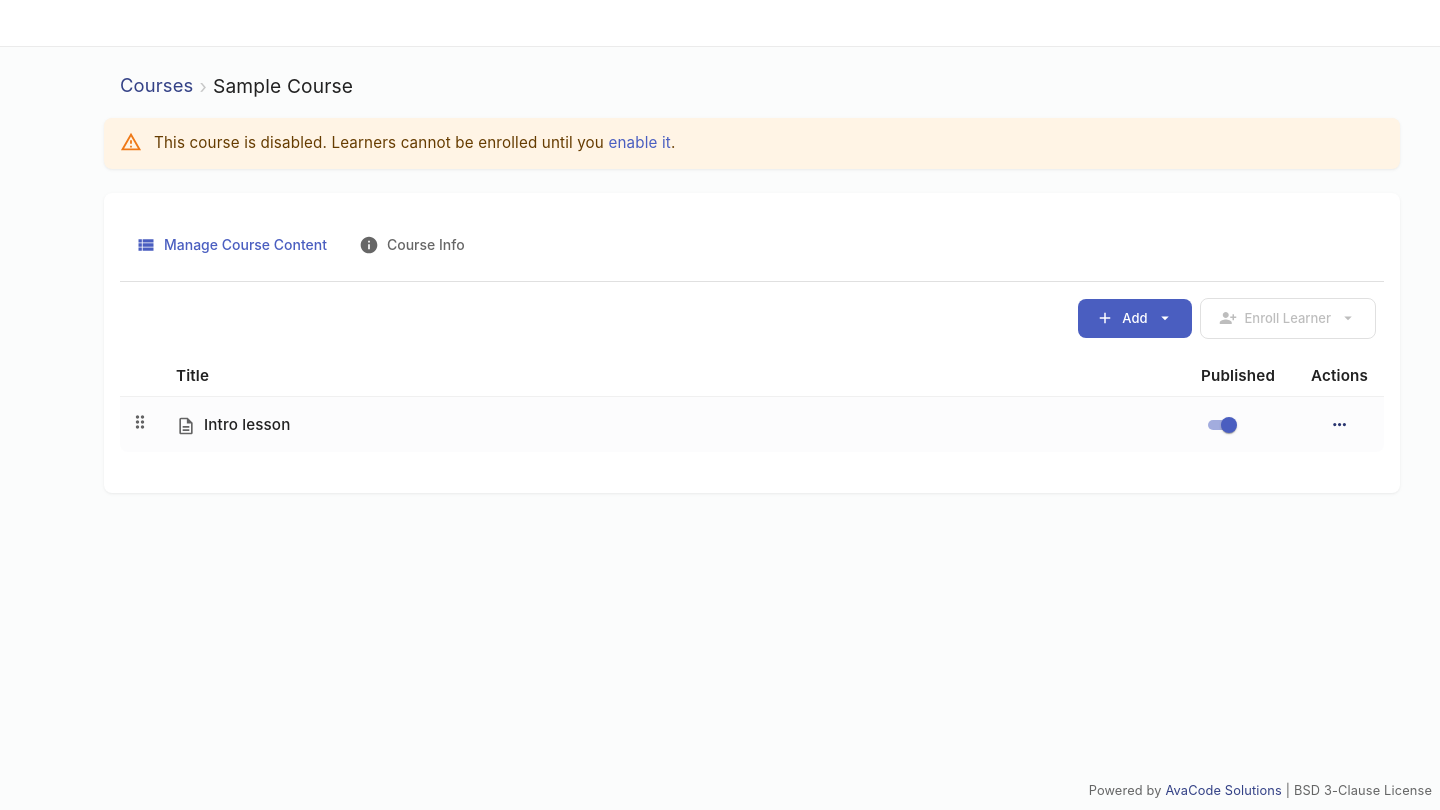
Scenario: Course › hides the disabled banner and re-enables the Enroll button after confirming enable
Click the button "enable it" at (640, 144), box [608,132,671,155]
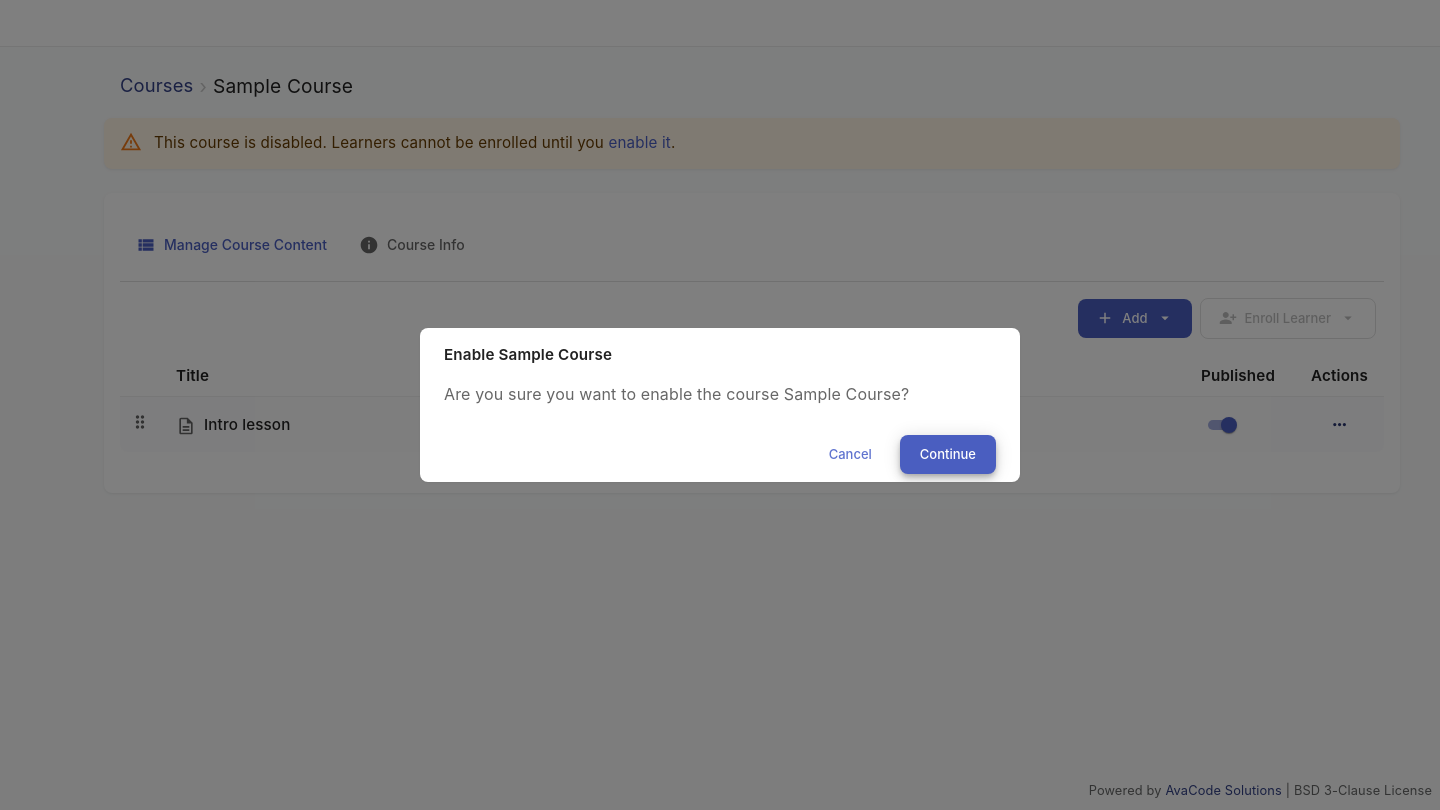
Click the button "Continue" at (948, 454), box [900,435,996,474]
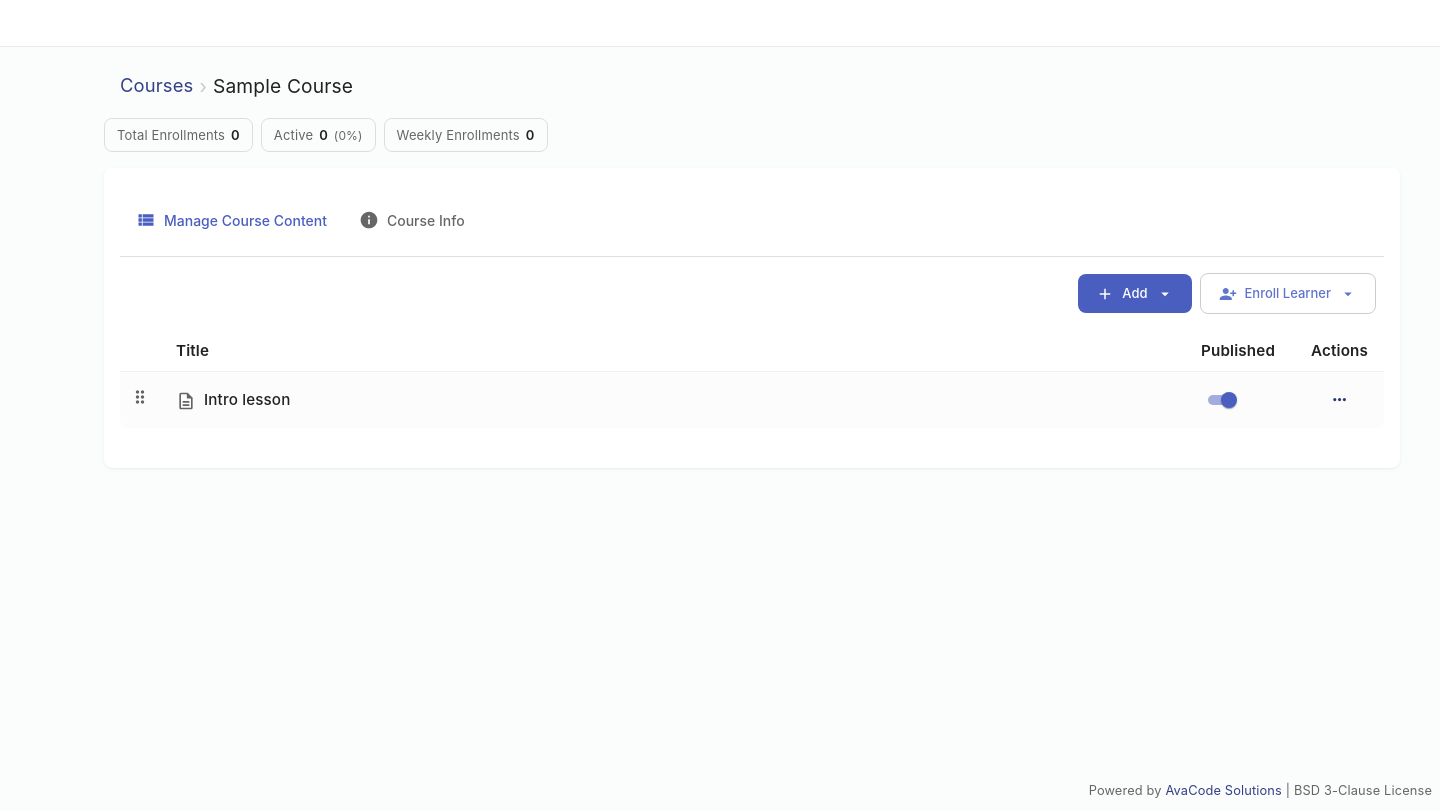
Check: the dialog is gone
Check: the message "This course is disabled. Learners cannot be enrolled until you enable it ." is gone
Check: the button "Enroll Learner" is enabled, box [1200,273,1376,314]
